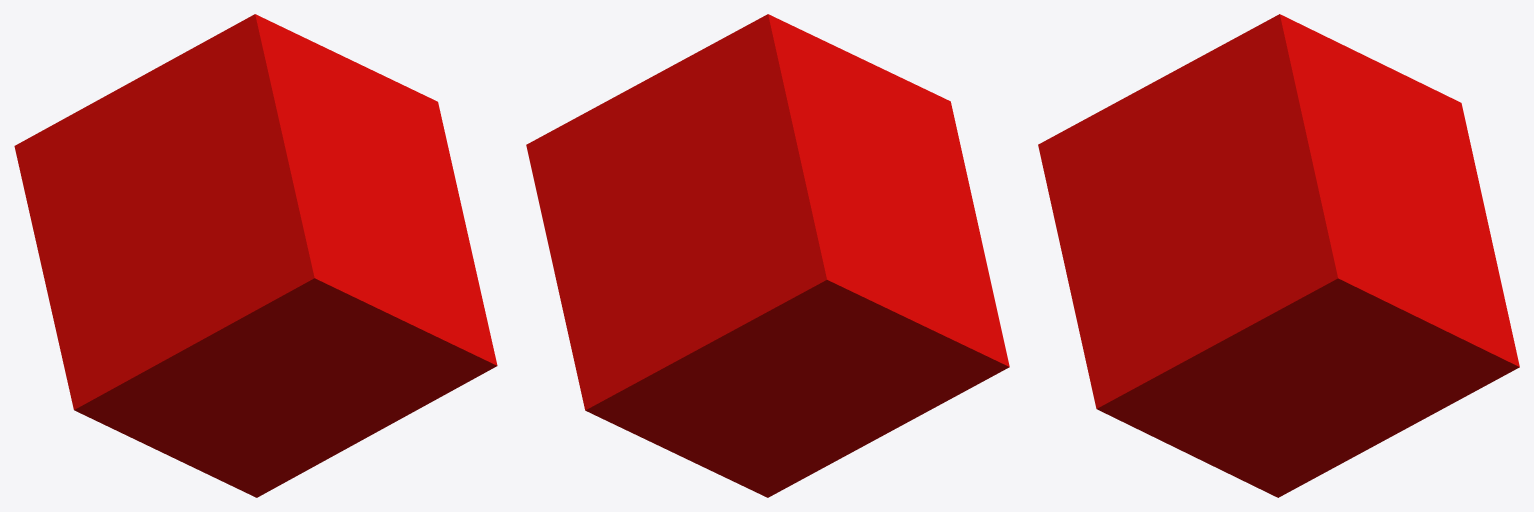
The model's file is red.gltf.
3 views of the same model, side by side, from view 1: azimuth 30°, elevation 25°; view 2: azimuth 150°, elevation 25°; view 3: azimuth 270°, elevation 25° (orthographic).
Parts seen in each view (by area): view 1: Cube; view 2: Cube; view 3: Cube.
Boxes of the visible parts, x1,y1,x2,y2 form: Cube: (14,14,497,497); Cube: (526,14,1009,497); Cube: (1038,14,1519,497).
Size of the model in its own units: 3.17 by 3.46 by 3.13.
Materials: 1 (1 with a texture image).
